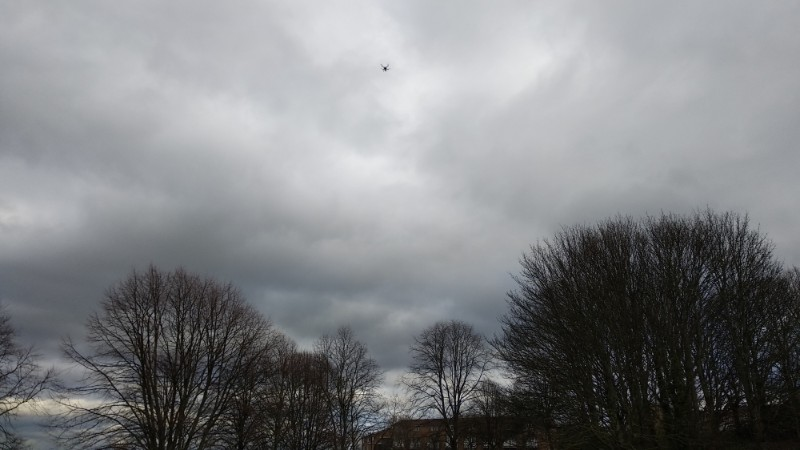drone: (380, 62, 391, 73)
